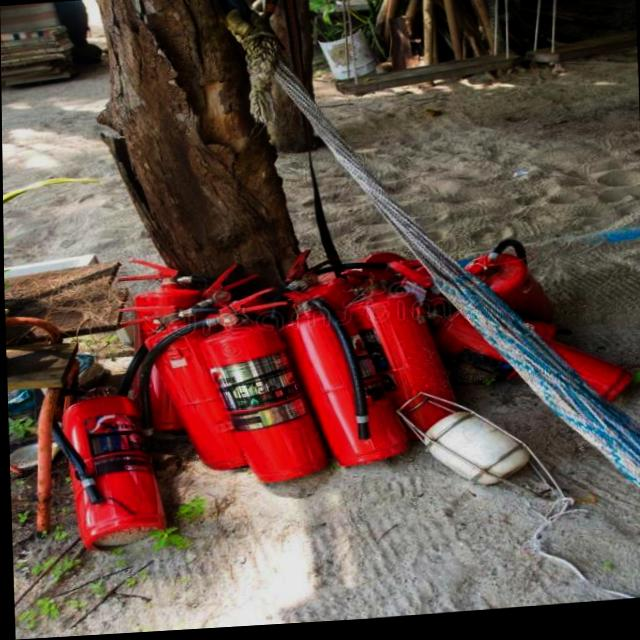FireExtinguisher: (121, 310, 332, 498), (266, 269, 427, 474), (320, 252, 485, 448), (403, 286, 638, 423), (50, 372, 178, 558), (109, 246, 212, 428), (436, 223, 572, 343)
